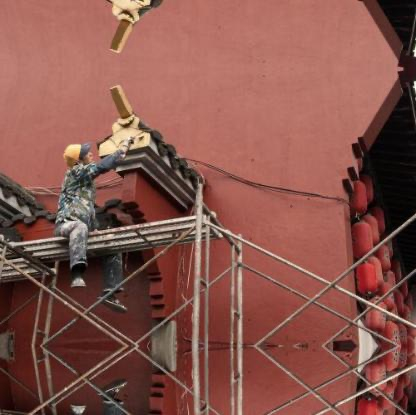Safety Helmet: (59, 139, 97, 170)
